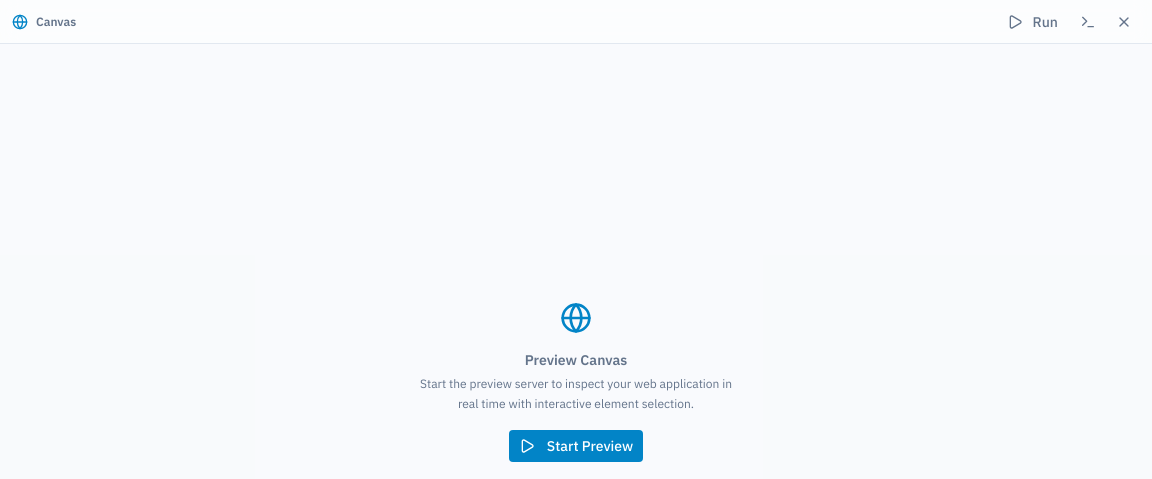
WebPreview lifecycle › rejects a package without a runnable script before spawning
This screenshot has width=1152, height=479.
Click the button "Start Preview".
click(576, 446)  # box x1=509 y1=430 x2=643 y2=462
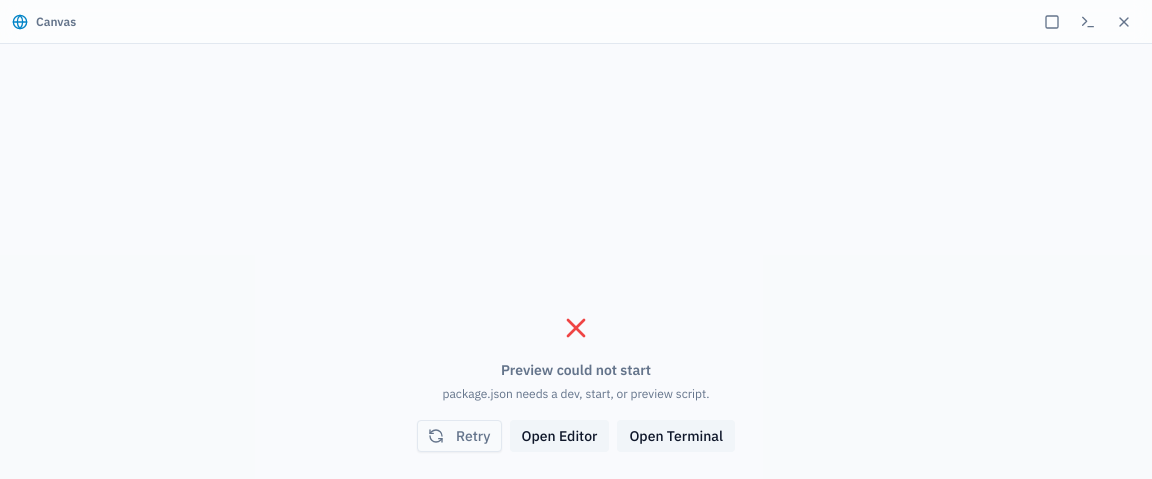
Check: the text "package.json needs a dev, start, or preview script." is shown, box x1=442 y1=384 x2=710 y2=404
